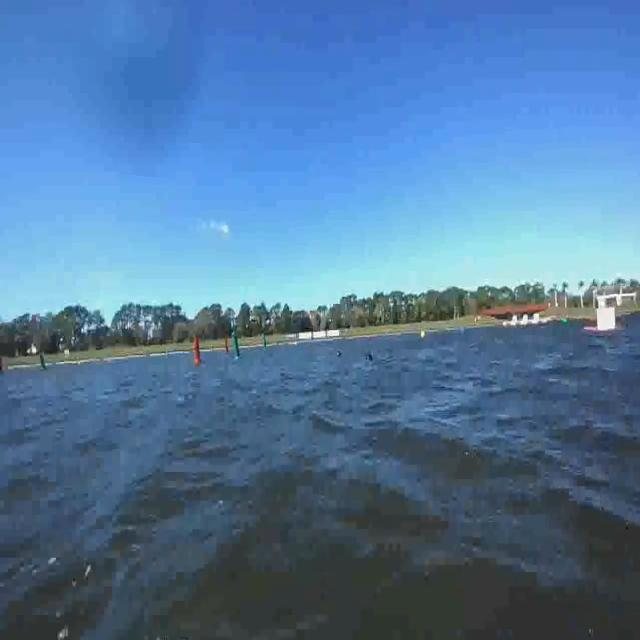black-buoy: (334, 344, 344, 359), (365, 347, 372, 362)
green-buoy: (562, 317, 568, 326)
green-column-buoy: (233, 334, 243, 359), (36, 351, 46, 372), (264, 337, 270, 353)
red-column-buoy: (194, 338, 204, 367), (223, 338, 229, 356), (0, 353, 5, 374)
yellow-buoy: (420, 326, 427, 339)
